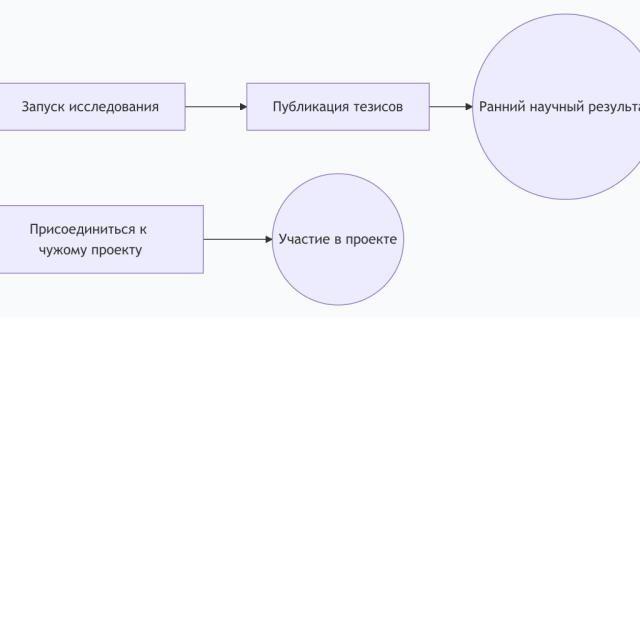circle: (271, 172, 405, 307)
rectangle: (246, 81, 431, 132), (185, 101, 231, 113)
